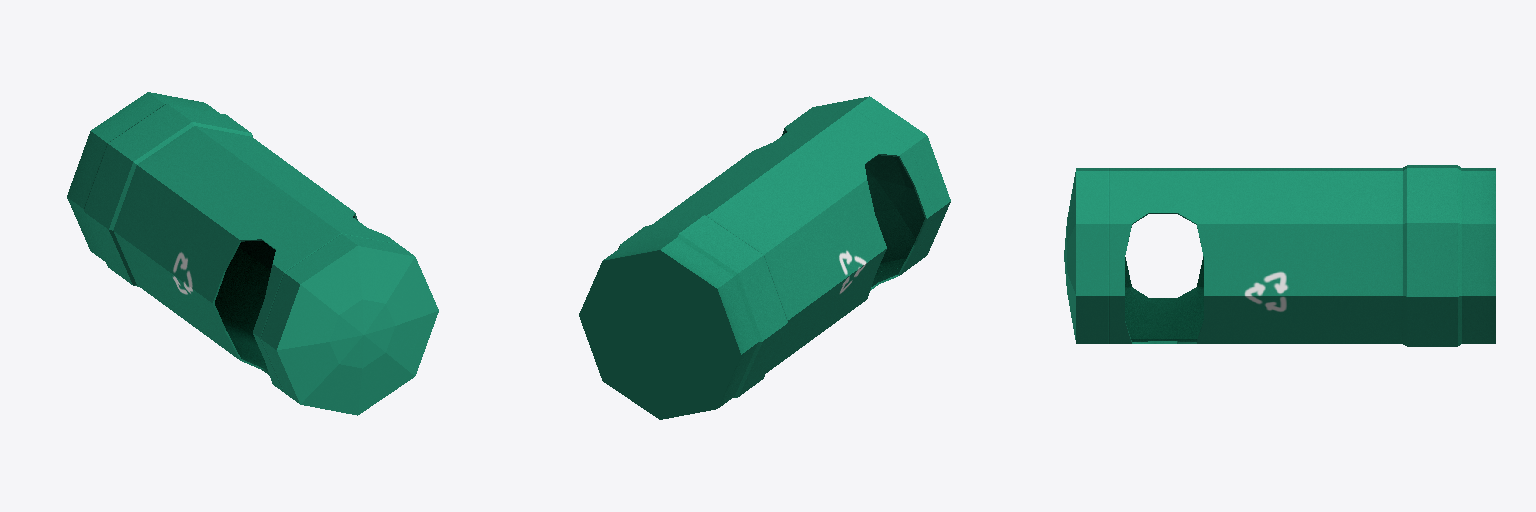
3 views of the same model, side by side, from view 1: azimuth 30°, elevation 25°; view 2: azimuth 150°, elevation 25°; view 3: azimuth 270°, elevation 25° (orthographic).
Visible parts, largest first — view 1: Bin_Cylinder; view 2: Bin_Cylinder; view 3: Bin_Cylinder.
Part boxes in pixels (left/top/right/bottom): Bin_Cylinder: left=67, top=92, right=438, bottom=415; Bin_Cylinder: left=579, top=96, right=950, bottom=419; Bin_Cylinder: left=1064, top=165, right=1495, bottom=346.
Bounding box in the file's own units: 0.4529 × 0.4529 × 1.01.
Materials: 2 (1 with a texture image).